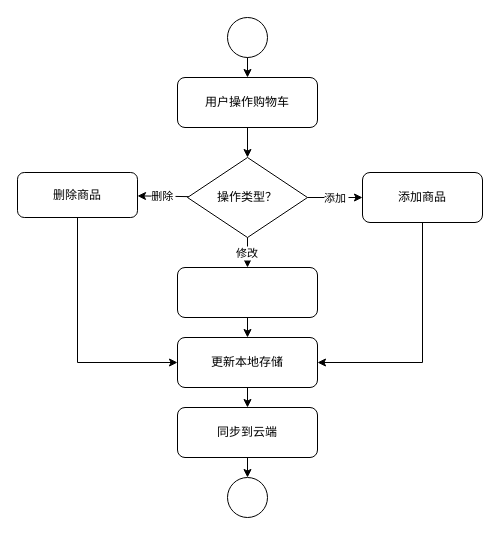
Image size: 500x535. Some labels were removed from this diagram. The shapes that lost their labels are listed below. From the top down, each one's box as (x1, y1, x2, y2) in pixels, then its label:
(226, 16, 268, 58): 开始
(176, 266, 318, 318): 修改商品数量
(226, 476, 268, 518): 结束
